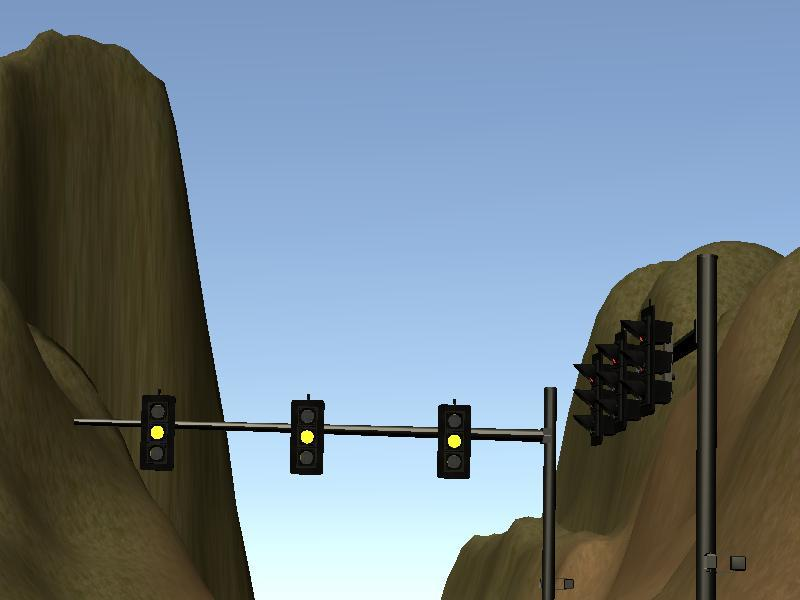Yellow: (140, 396, 174, 469), (290, 400, 322, 475), (438, 404, 470, 477)
